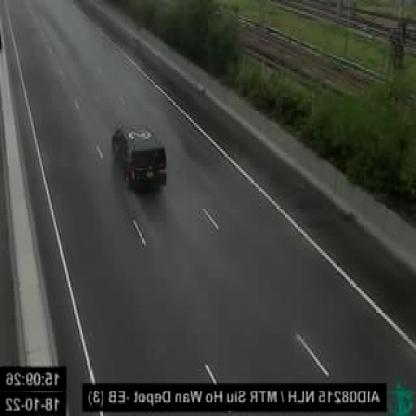Car: (110, 122, 168, 194)
